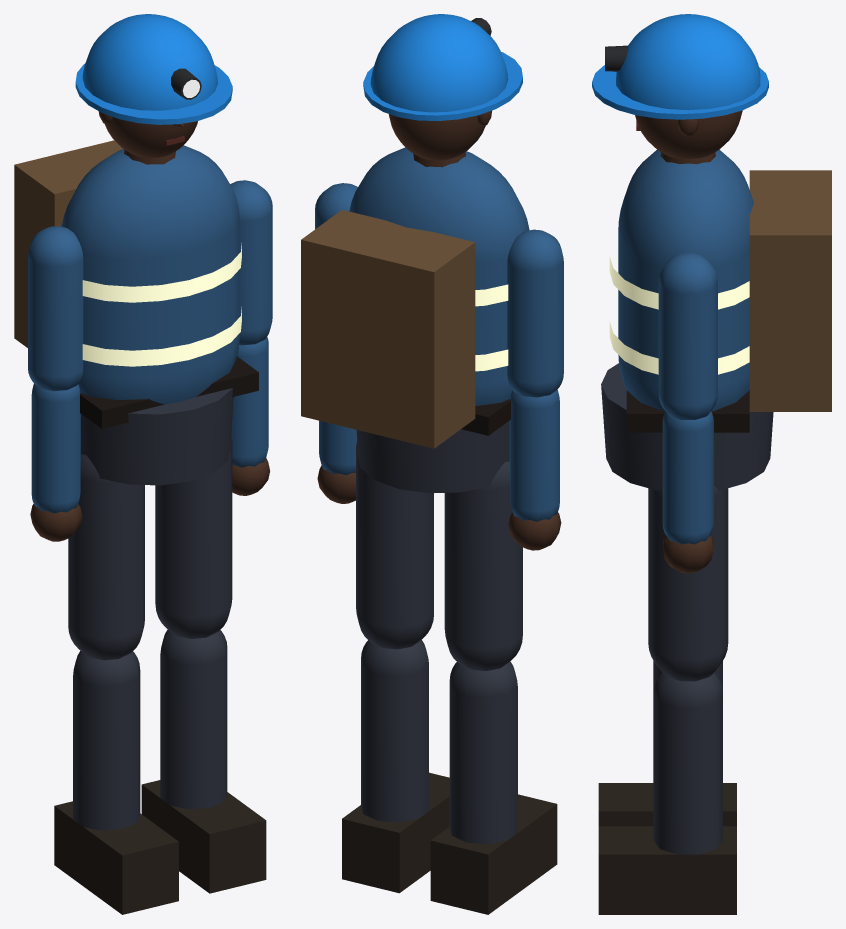
File: worker_marquinho.glb
3 renders of one model, left to right at view 1: azimuth 30°, elevation 25°; view 2: azimuth 150°, elevation 25°; view 3: azimuth 270°, elevation 25°, orthographic.
Visible parts, largest first — view 1: worker_torso, worker_legs_0_knee, worker_legs_1_knee, worker_head, worker_legs_0_hip, worker_legs_1_hip, worker_arms_0_sh, worker_arms_0_el, worker_arms_1_sh, worker_arms_1_el, worker_arms_0_hand, worker_arms_1_hand; view 2: worker_torso, worker_legs_0_knee, worker_legs_1_knee, worker_head, worker_legs_0_hip, worker_legs_1_hip, worker_arms_0_sh, worker_arms_0_el, worker_arms_1_el, worker_arms_0_hand, worker_arms_1_sh, worker_arms_1_hand; view 3: worker_torso, worker_legs_1_knee, worker_head, worker_legs_1_hip, worker_arms_1_sh, worker_arms_1_el, worker_legs_0_knee, worker_arms_1_hand.
Part boxes in pixels (bbox=[...]): worker_torso: bbox=[14, 140, 258, 485]; worker_legs_0_knee: bbox=[54, 651, 178, 914]; worker_legs_1_knee: bbox=[141, 629, 266, 893]; worker_head: bbox=[75, 14, 232, 158]; worker_legs_0_hip: bbox=[68, 454, 144, 660]; worker_legs_1_hip: bbox=[155, 434, 232, 638]; worker_arms_0_sh: bbox=[28, 226, 83, 391]; worker_arms_0_el: bbox=[31, 383, 80, 513]; worker_arms_1_sh: bbox=[230, 180, 272, 345]; worker_arms_1_el: bbox=[231, 337, 268, 467]; worker_arms_0_hand: bbox=[30, 504, 82, 541]; worker_arms_1_hand: bbox=[232, 458, 269, 495]; worker_torso: bbox=[301, 147, 529, 493]; worker_legs_0_knee: bbox=[430, 661, 557, 914]; worker_legs_1_knee: bbox=[342, 639, 449, 893]; worker_head: bbox=[363, 14, 522, 160]; worker_legs_0_hip: bbox=[444, 461, 522, 670]; worker_legs_1_hip: bbox=[356, 441, 433, 649]; worker_arms_0_sh: bbox=[507, 229, 563, 397]; worker_arms_0_el: bbox=[509, 389, 559, 521]; worker_arms_1_el: bbox=[319, 420, 356, 475]; worker_arms_0_hand: bbox=[508, 512, 561, 550]; worker_arms_1_sh: bbox=[315, 183, 357, 229]; worker_arms_1_hand: bbox=[317, 465, 355, 503]; worker_torso: bbox=[601, 150, 831, 490]; worker_legs_1_knee: bbox=[598, 672, 736, 914]; worker_head: bbox=[592, 14, 768, 159]; worker_legs_1_hip: bbox=[648, 485, 728, 681]; worker_arms_1_sh: bbox=[658, 252, 717, 419]; worker_arms_1_el: bbox=[662, 411, 713, 544]; worker_legs_0_knee: bbox=[598, 661, 736, 826]; worker_arms_1_hand: bbox=[663, 534, 713, 573].
Bounding box in the file's own units: 0.5403 × 1.85 × 0.4675.
